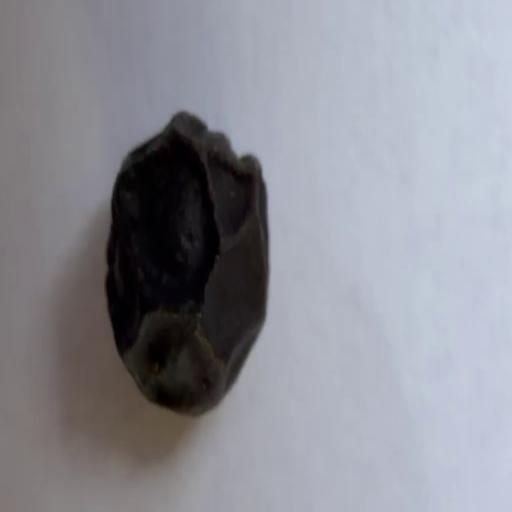Black_pepper: (87, 109, 297, 420)
